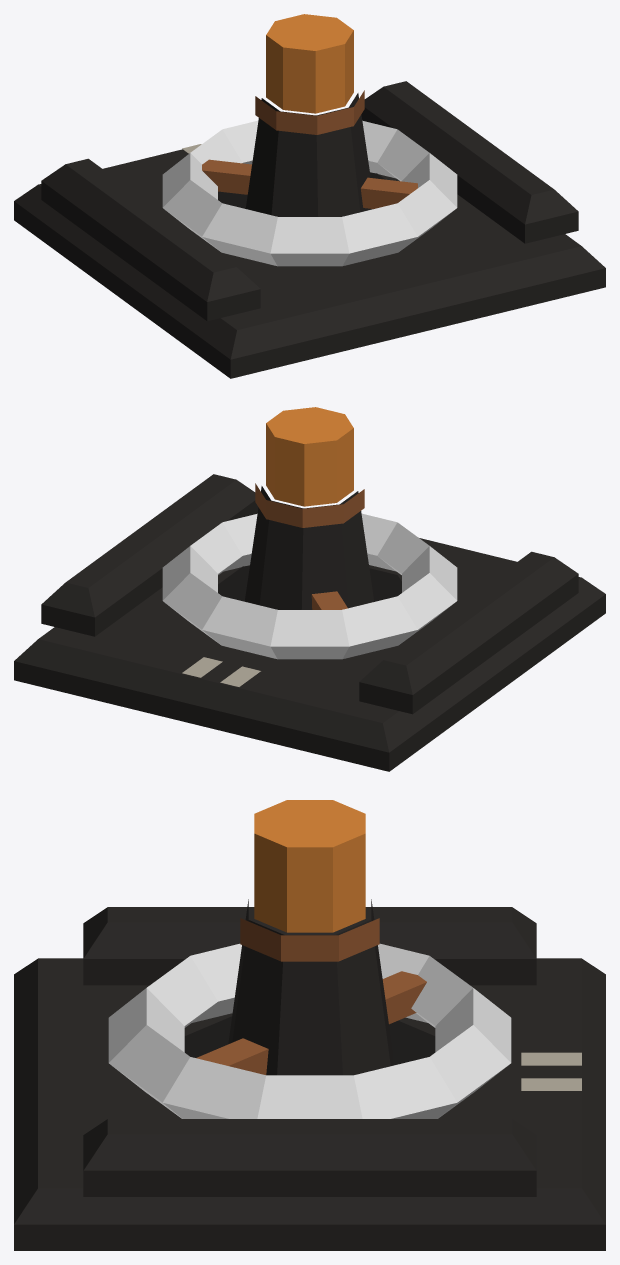
The model's file is str_t2_mex.6ab9d8ad.raw.glb.
The picture shows the model from 3 angles, top to bottom: view 1: azimuth 30°, elevation 25°; view 2: azimuth 150°, elevation 25°; view 3: azimuth 270°, elevation 25°; orthographic projection. The views are drawn at different scales.
Visible parts, largest first — view 1: lod0; view 2: lod0; view 3: lod0.
Part boxes in pixels (x1=…): lod0: x1=14, y1=14, x2=605, y2=378; lod0: x1=14, y1=407, x2=605, y2=771; lod0: x1=14, y1=800, x2=605, y2=1250.
Size of what is drawn, in the model's own units: 1.96 by 1.1 by 1.96.
